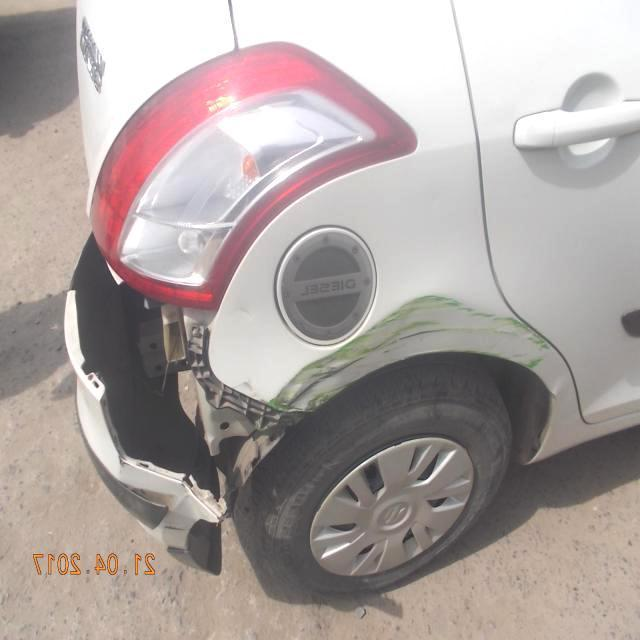minor: (67, 231, 568, 505)
